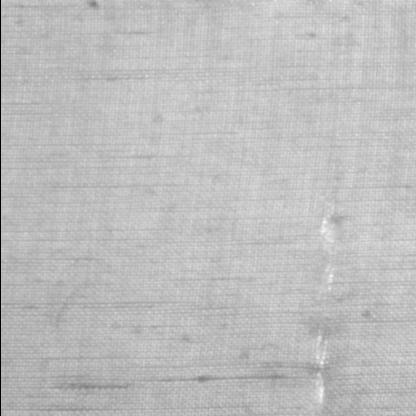thread error: (307, 194, 349, 416)
